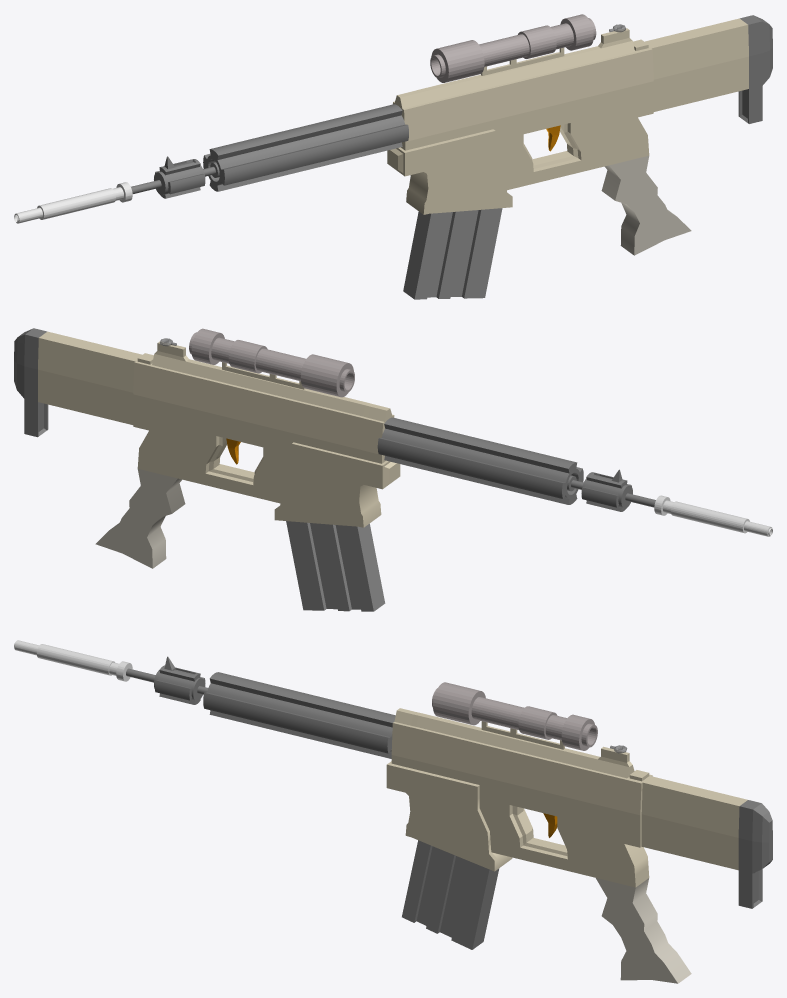
File: GunModel_Polished_2021_2015_Variant_ZB.fbx
3 renders of one model, top to bottom at view 1: azimuth 30°, elevation 25°; view 2: azimuth 150°, elevation 25°; view 3: azimuth 330°, elevation 25°, orthographic.
Visible parts, largest first — view 1: polySurface37, polySurface39, polySurface30, polySurface31, polySurface36, polySurface38, polySurface40; view 2: polySurface37, polySurface39, polySurface30, polySurface31, polySurface36, polySurface38, polySurface40; view 3: polySurface37, polySurface39, polySurface30, polySurface36, polySurface31, polySurface38, polySurface40.
Boxes of the visible parts, x1=… form: polySurface37: x1=387, y1=18, x2=748, y2=214; polySurface39: x1=131, y1=104, x2=408, y2=198; polySurface30: x1=403, y1=208, x2=502, y2=299; polySurface31: x1=430, y1=14, x2=596, y2=82; polySurface36: x1=601, y1=155, x2=691, y2=255; polySurface38: x1=738, y1=15, x2=772, y2=123; polySurface40: x1=14, y1=182, x2=132, y2=223; polySurface37: x1=38, y1=331, x2=400, y2=527; polySurface39: x1=377, y1=417, x2=655, y2=511; polySurface30: x1=286, y1=521, x2=385, y2=611; polySurface31: x1=189, y1=328, x2=354, y2=397; polySurface36: x1=95, y1=469, x2=185, y2=568; polySurface38: x1=14, y1=328, x2=48, y2=437; polySurface40: x1=654, y1=495, x2=772, y2=536; polySurface37: x1=386, y1=708, x2=747, y2=887; polySurface39: x1=126, y1=656, x2=395, y2=758; polySurface30: x1=402, y1=840, x2=499, y2=949; polySurface36: x1=596, y1=878, x2=691, y2=983; polySurface31: x1=432, y1=682, x2=597, y2=750; polySurface38: x1=738, y1=800, x2=772, y2=908; polySurface40: x1=14, y1=640, x2=132, y2=681.
Size of the model in its own units: 22.54 by 7.19 by 1.13.
